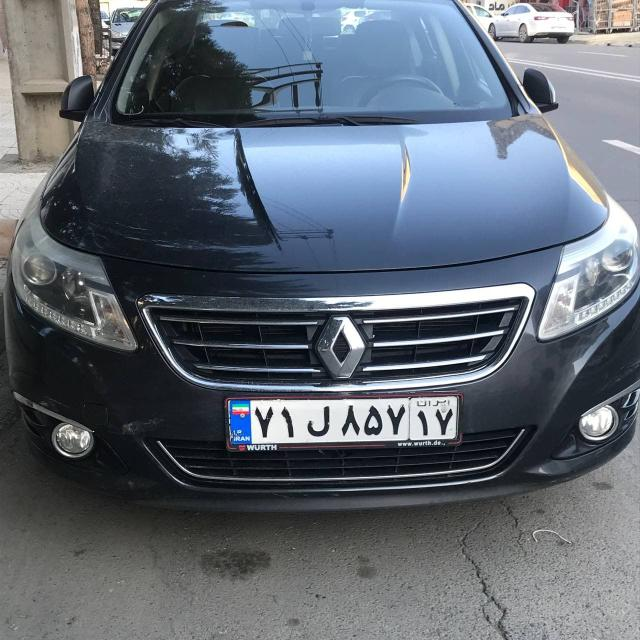Plates: (229, 394, 459, 444)
